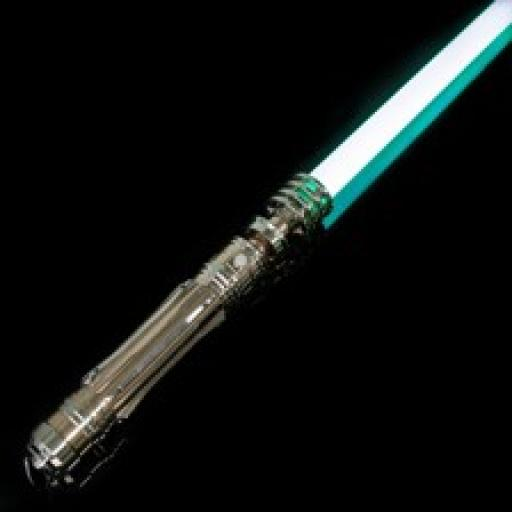lightsaber: (19, 5, 512, 503)
